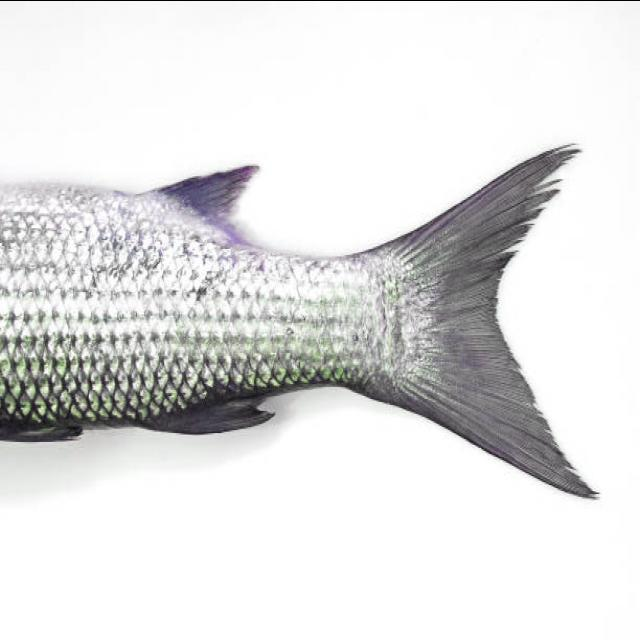Healthy Fish: (0, 121, 603, 514)
